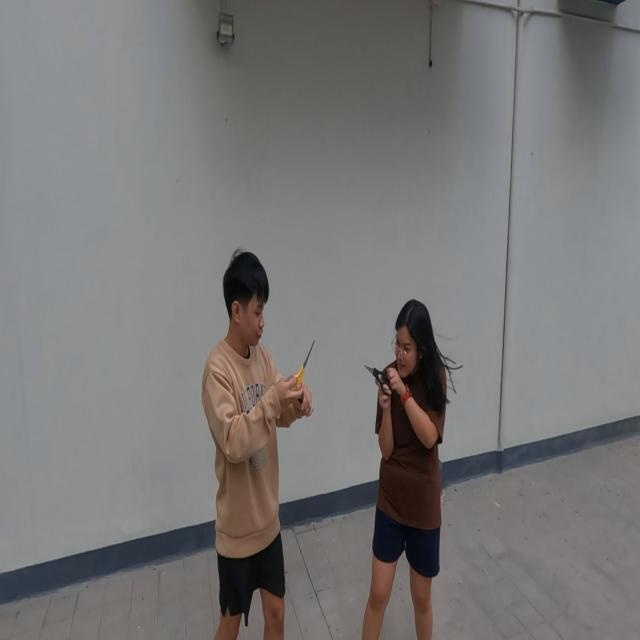scissor: (363, 360, 394, 397)
